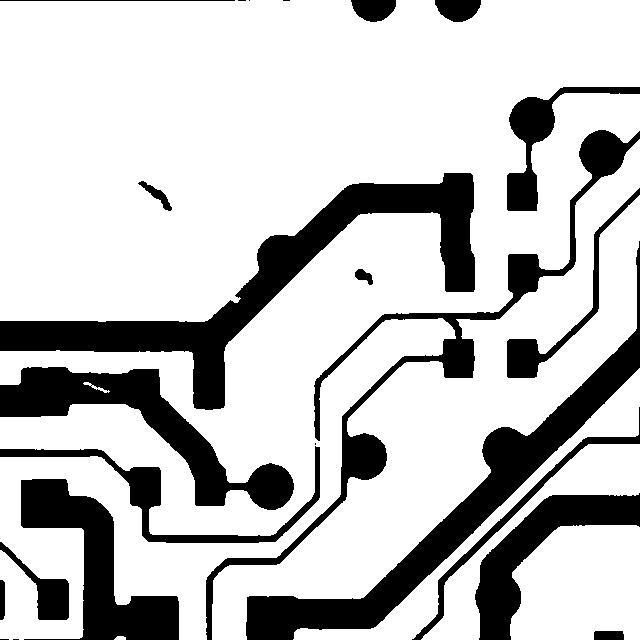copper: (128, 171, 181, 220), (345, 259, 382, 294)
mousebite: (217, 284, 250, 312)
open: (300, 425, 334, 456)
pin-hole: (73, 372, 119, 402)
short: (434, 305, 471, 350)
